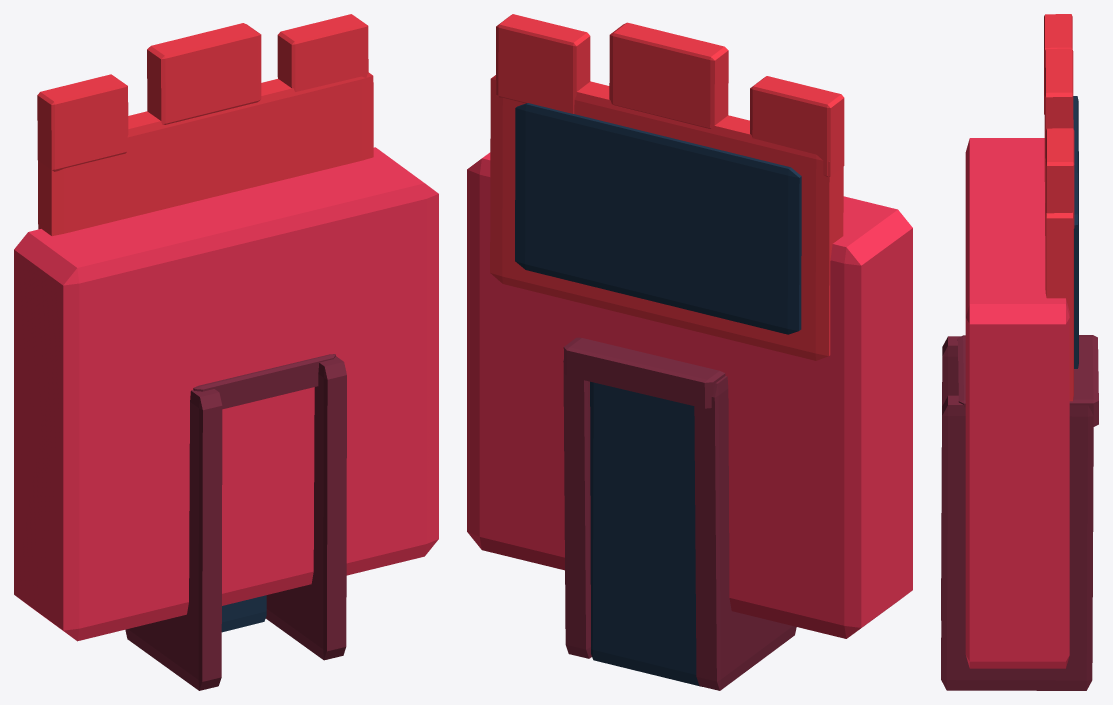
The model's file is 3D_WallDestructiblePart.fbx.
3 views of the same model, side by side, from view 1: azimuth 30°, elevation 25°; view 2: azimuth 150°, elevation 25°; view 3: azimuth 270°, elevation 25° (orthographic). The views are drawn at different scales.
Visible parts, largest first — view 1: 3D_WallDestructiblePart; view 2: 3D_WallDestructiblePart; view 3: 3D_WallDestructiblePart.
Boxes of the visible parts, x1,y1,x2,y2 form: 3D_WallDestructiblePart: (14, 14, 438, 690); 3D_WallDestructiblePart: (467, 14, 912, 690); 3D_WallDestructiblePart: (941, 14, 1098, 690).
Bounding box in the file's own units: 188 × 286 × 70.2.
1 material, 1 textured.
